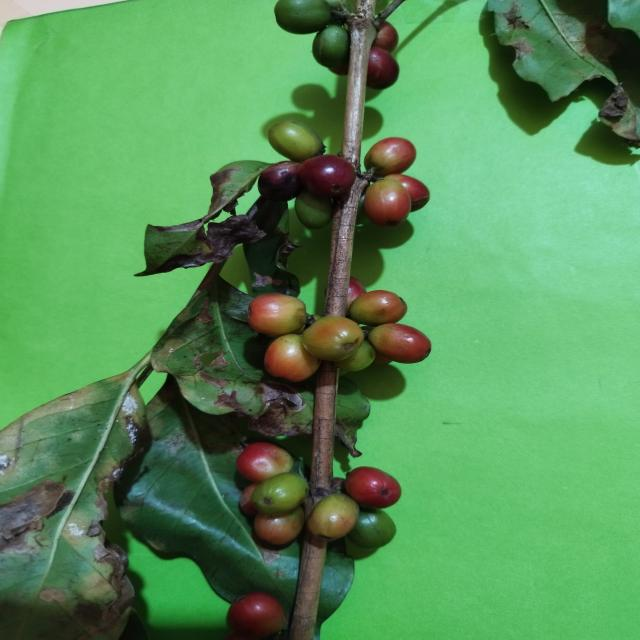Sano: (367, 324, 434, 366), (247, 294, 306, 339), (345, 466, 402, 509), (268, 121, 326, 163), (298, 158, 355, 196), (365, 181, 412, 224), (364, 138, 416, 176)
